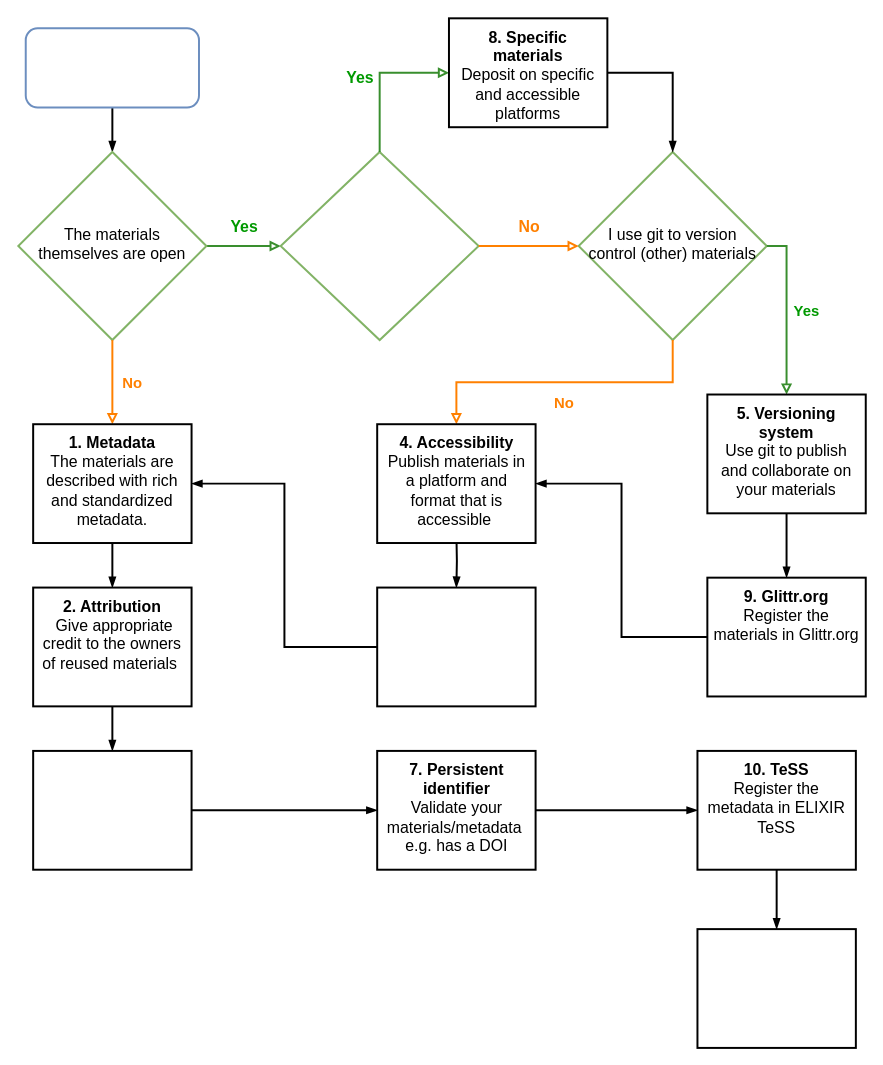
This 883x1065 diagram has some shape labels left out. The centre of each missing label's shape, as x and y in pixels:
11. Communication Promote your training materials so others can reuse!: point (776, 988)
3. License Choose and assign an appropiate license, e.g. CC-BY-4.0: point (112, 809)
6. Zenodo Publish your materials on Zenodo for long term storage: point (456, 646)
I am planning to make my training materials FAIR: point (111, 67)
Materials fit specific repositories (video, workflow, sequencing data,...): point (379, 245)
